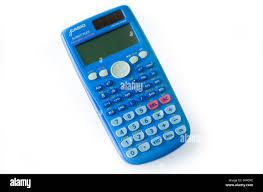Calculator: (58, 4, 194, 167)
